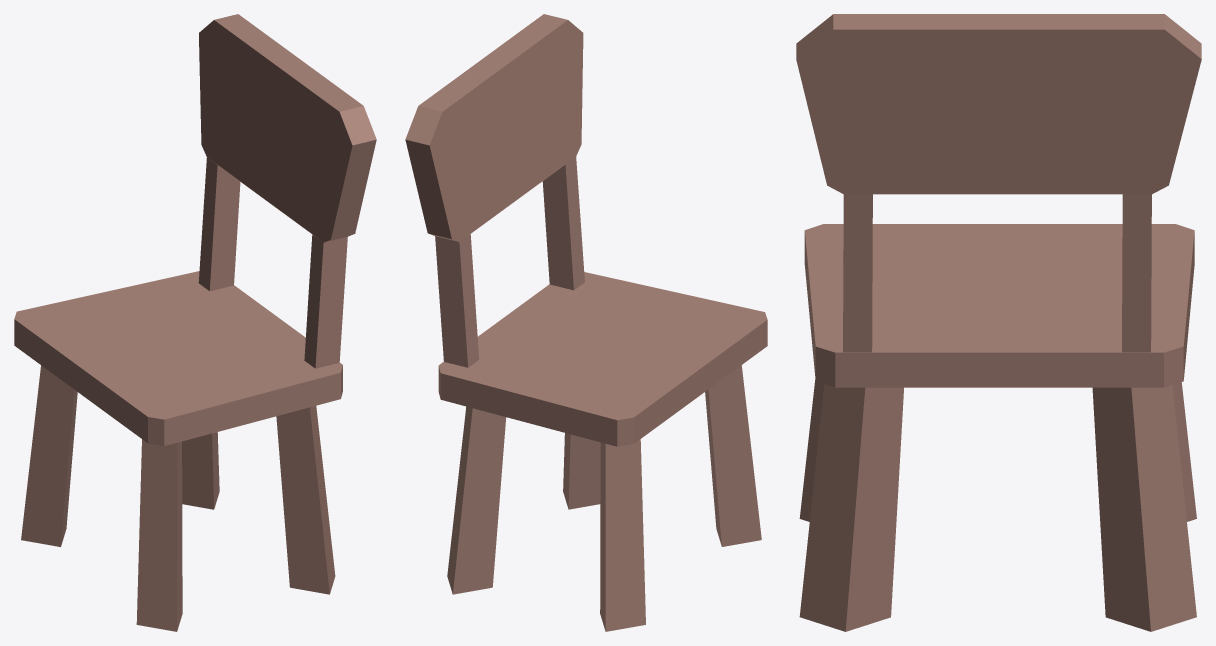
File: CHAIR.fbx
The picture shows the model from 3 angles, left to right: view 1: azimuth 30°, elevation 25°; view 2: azimuth 150°, elevation 25°; view 3: azimuth 270°, elevation 25°; orthographic projection. The views are drawn at different scales.
Visible parts, largest first — view 1: Plane.006; view 2: Plane.006; view 3: Plane.006.
Part boxes in pixels (<box>): Plane.006: <box>14,14,376,631</box>; Plane.006: <box>405,14,767,631</box>; Plane.006: <box>796,14,1201,631</box>.
Bounding box in the file's own units: 2.48 × 5 × 2.97.
